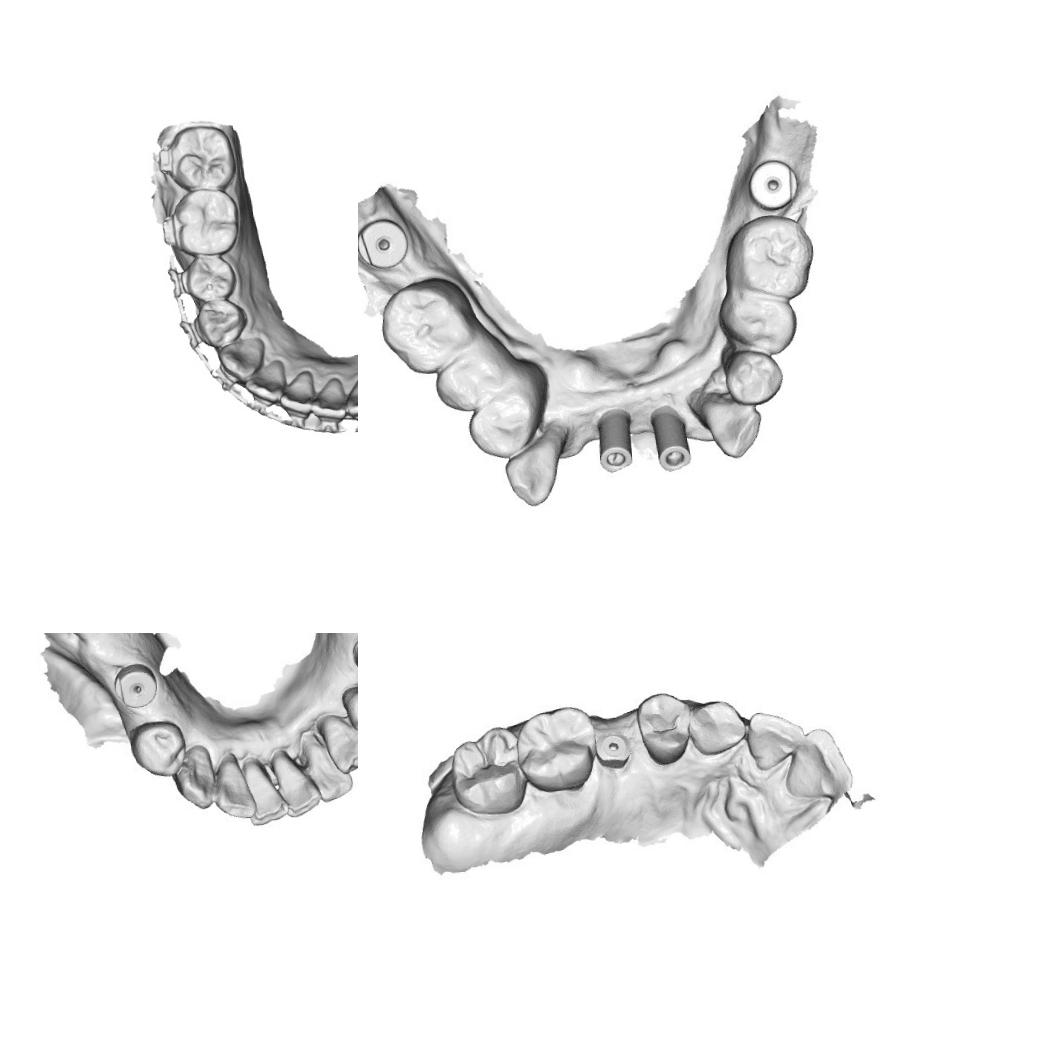canine: (690, 385, 769, 460), (497, 434, 570, 510), (686, 696, 748, 758), (169, 741, 217, 814), (315, 712, 358, 777), (213, 334, 268, 382)
crown: (346, 635, 358, 683)
implant: (649, 404, 694, 468), (358, 213, 406, 269), (747, 158, 798, 210), (594, 409, 635, 470), (110, 661, 158, 709), (594, 730, 632, 767)
incisor: (780, 724, 852, 804), (742, 705, 806, 773), (243, 755, 291, 827), (272, 753, 324, 819), (305, 736, 355, 804), (210, 758, 258, 822), (240, 357, 288, 406), (275, 367, 316, 417), (308, 374, 348, 423), (342, 371, 358, 418)
molar: (380, 280, 468, 376), (445, 724, 528, 818), (512, 702, 596, 794), (728, 219, 814, 304), (168, 186, 243, 259), (164, 122, 238, 193)
premolar: (724, 284, 800, 358), (465, 386, 537, 462), (632, 686, 694, 766), (435, 347, 510, 410), (127, 717, 188, 779), (724, 351, 784, 408), (194, 297, 250, 348), (183, 252, 239, 302), (341, 683, 358, 741)
